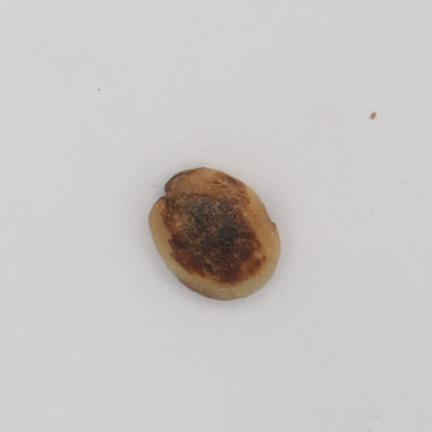partial-black: (149, 168, 280, 300)
